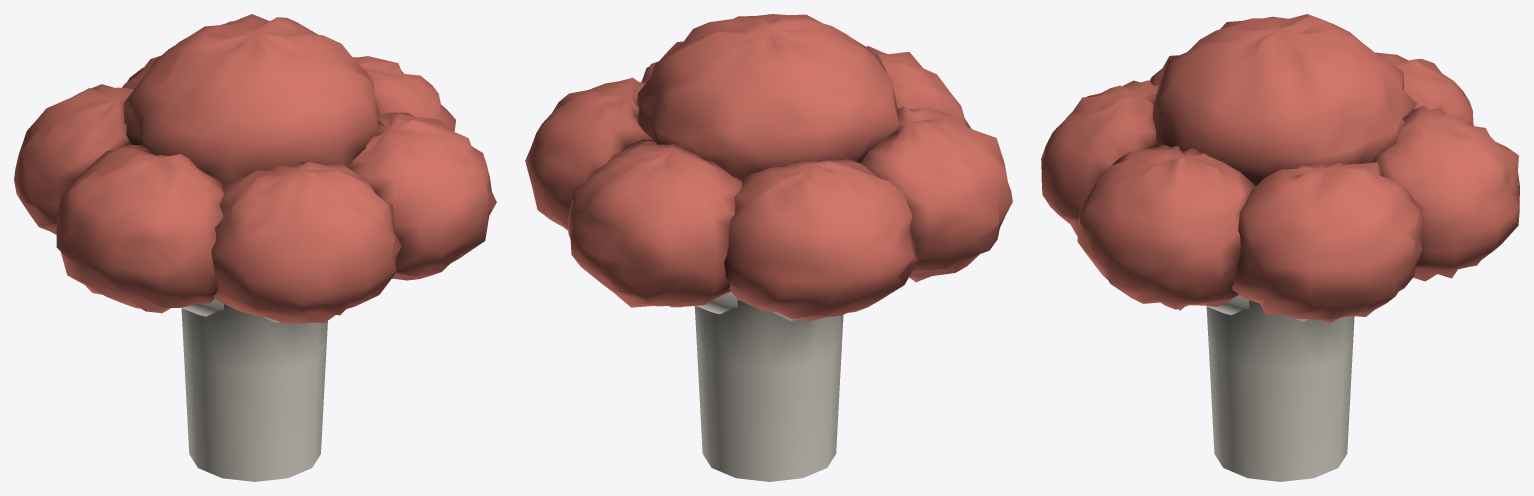
The model's file is food_broccoli.glb.
3 views of the same model, side by side, from view 1: azimuth 30°, elevation 25°; view 2: azimuth 150°, elevation 25°; view 3: azimuth 270°, elevation 25° (orthographic).
Parts seen in each view (by area): view 1: PART; view 2: PART; view 3: PART.
Part boxes in pixels (box(x1,y1,x2,y2)): PART: box(14, 14, 496, 481); PART: box(525, 14, 1012, 481); PART: box(1041, 14, 1519, 481).
Size of the model in its own units: 0.1187 by 0.113 by 0.1153.
